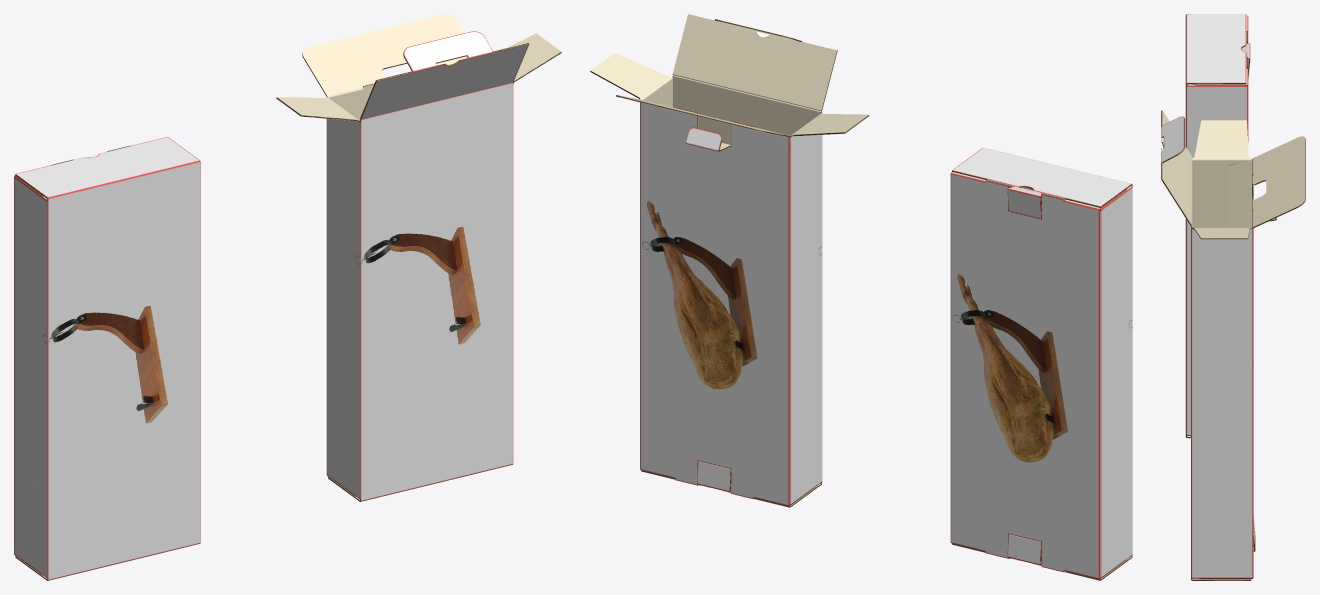
Rendered from 3D HUELVA EKO.gltf.
3 renders of one model, left to right at view 1: azimuth 30°, elevation 25°; view 2: azimuth 150°, elevation 25°; view 3: azimuth 270°, elevation 25°, orthographic. The views are drawn at different scales.
Visible parts, largest first — view 1: TQ_ARD-node.001, TQ_ARD-node; view 2: TQ_ARD-node.001, TQ_ARD-node; view 3: TQ_ARD-node.001, TQ_ARD-node.
Part boxes in pixels (left/top/right/bottom): TQ_ARD-node.001: left=276, top=14, right=561, bottom=501; TQ_ARD-node: left=14, top=137, right=200, bottom=580; TQ_ARD-node.001: left=590, top=14, right=869, bottom=507; TQ_ARD-node: left=950, top=147, right=1132, bottom=580; TQ_ARD-node.001: left=1161, top=110, right=1305, bottom=580; TQ_ARD-node: left=1185, top=14, right=1250, bottom=438.
Size of the model in its own units: 0.5858 by 0.4786 by 0.1515.
Materials: 6 (4 with a texture image).
